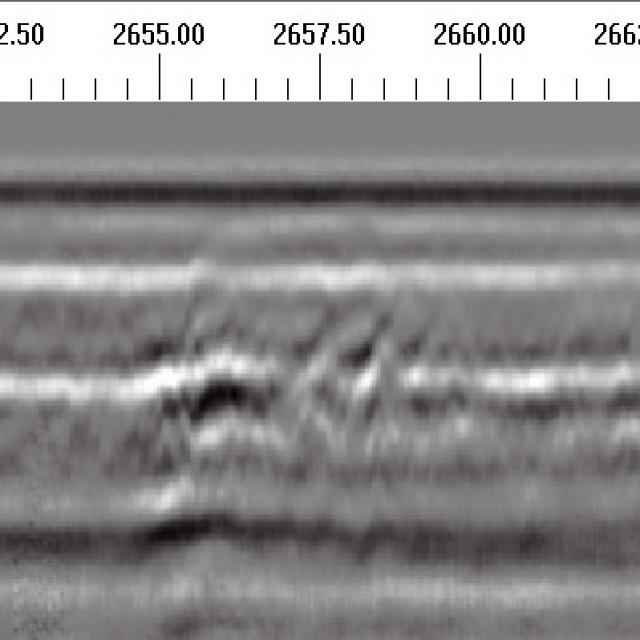loose: (123, 322, 309, 548)
